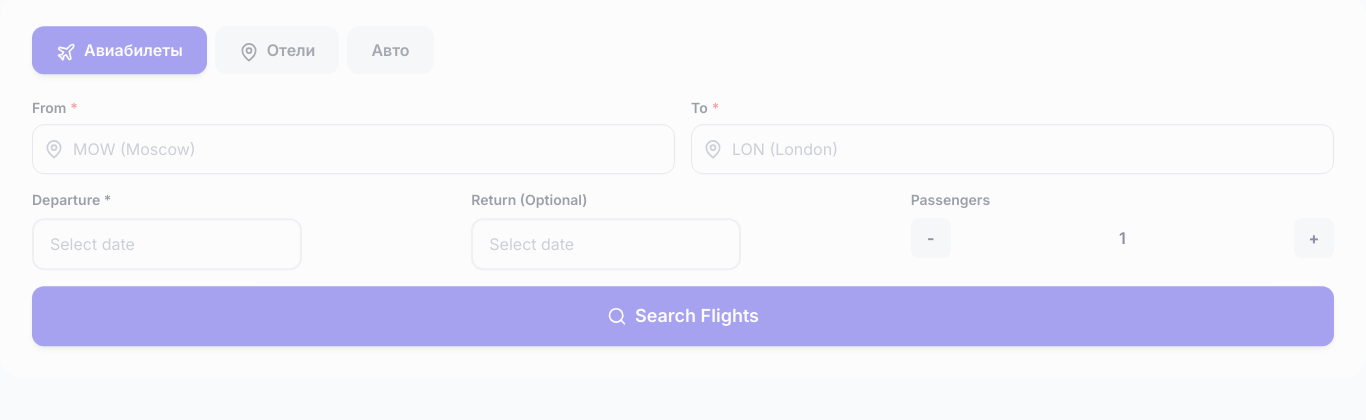
Test: SearchWidget Component › Flight Search Form › shows error when required fields are empty
Click the button "Search Flights": (683, 316) 32,286 -> 1334,346
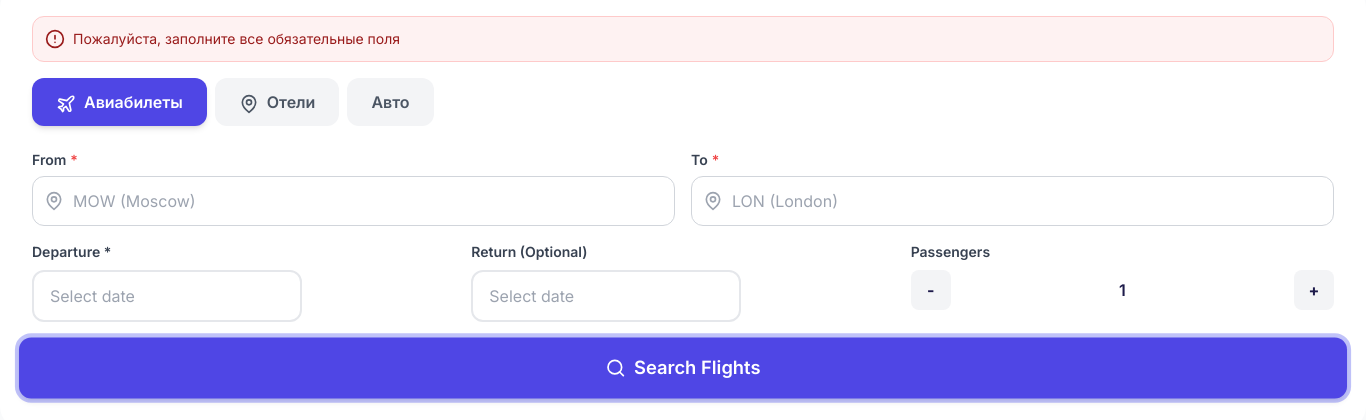
Expected: the message "Пожалуйста, заполните все обязательные поля" is shown, 32,16 -> 1334,62
Expected: the text "Пожалуйста, заполните все обязательные поля" is shown, 73,29 -> 400,49
